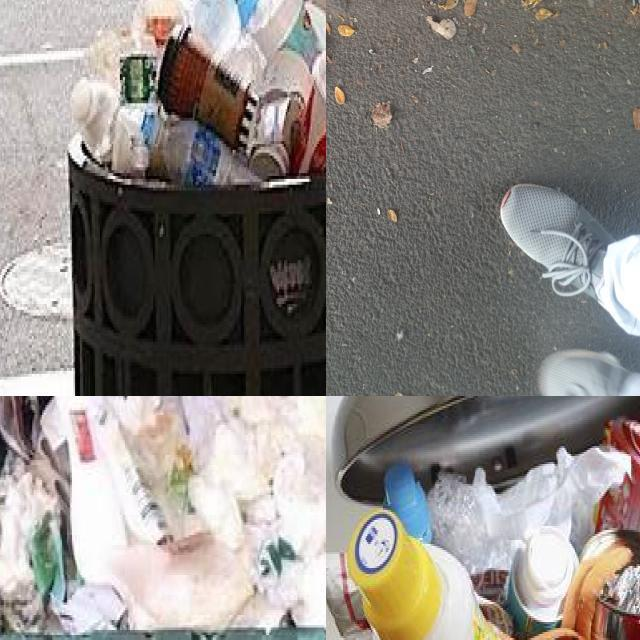Background: (326, 0, 640, 396)
Disposable: (157, 26, 248, 147), (256, 0, 326, 69), (292, 50, 326, 172)
Garbage: (0, 396, 326, 631), (326, 422, 640, 640), (71, 0, 326, 185)
Plastic_Bag: (427, 446, 630, 577)
Plastic_Container: (347, 510, 497, 640), (507, 531, 577, 639), (385, 463, 431, 541)
Plastic_bottle: (141, 103, 260, 188), (190, 0, 272, 58), (70, 77, 119, 164), (142, 0, 182, 46)
tin_box: (582, 531, 640, 640)
